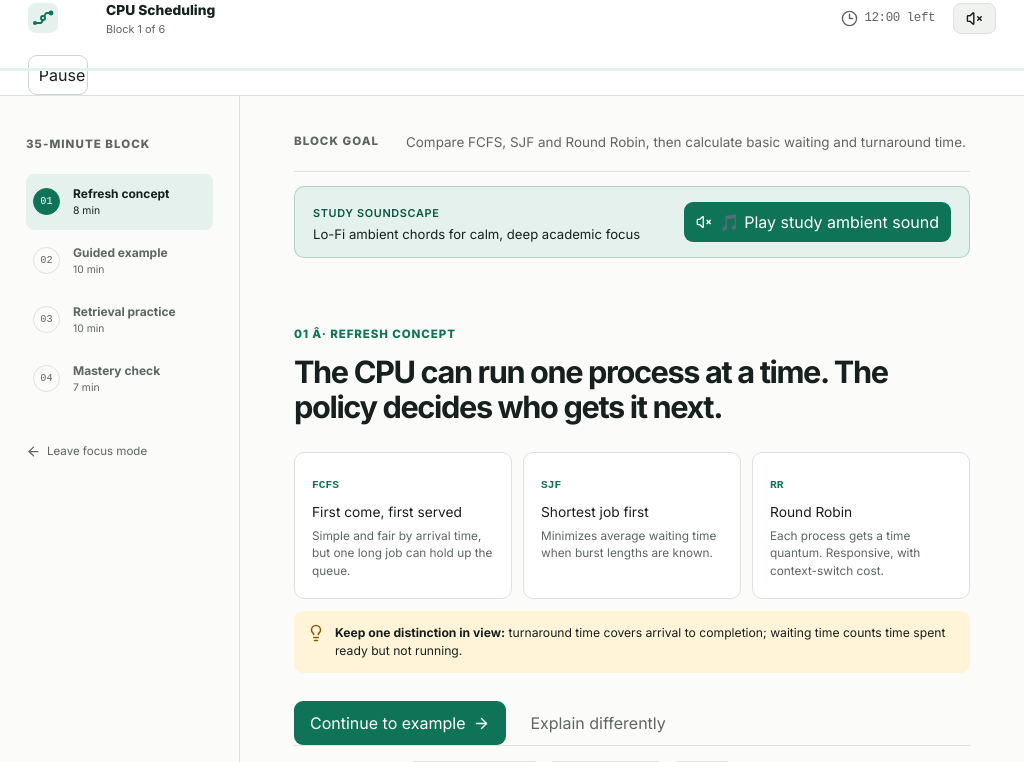
Test case: BackOnTrack deterministic demo › opens the honest exit dialog on Escape and lets the student remain
This screenshot has width=1024, height=762.
Press Escape
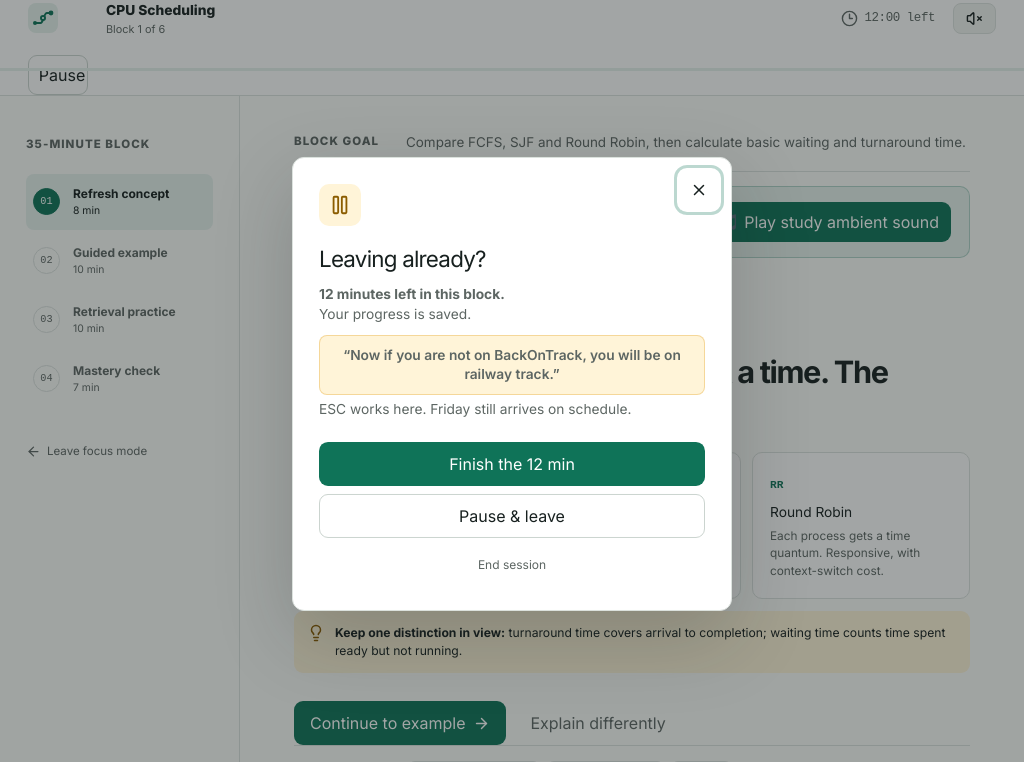
Now the dialog is shown, box [292,157,732,611]
Now the text "12 minutes left in this block." is shown, box [319,286,505,302]
Click the button "Finish the 12 min". click: (512, 464)
box: [319,442,705,486]
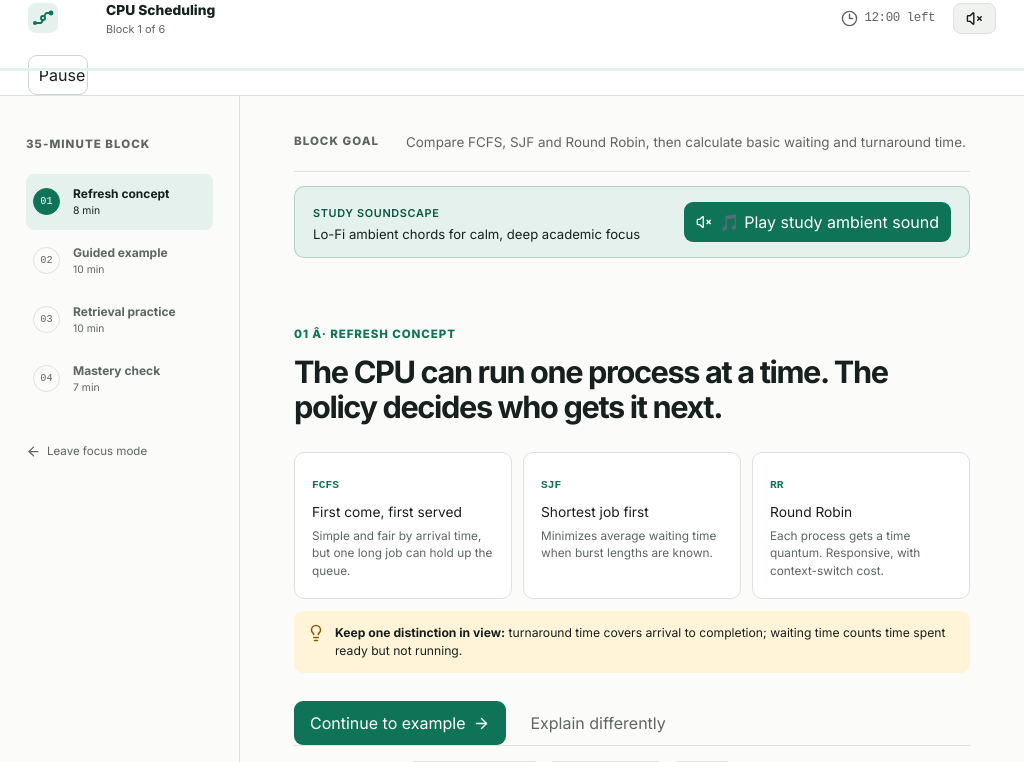
Expected: the text "CPU Scheduling" is shown, [106,2,215,18]
Now the dialog is gone
